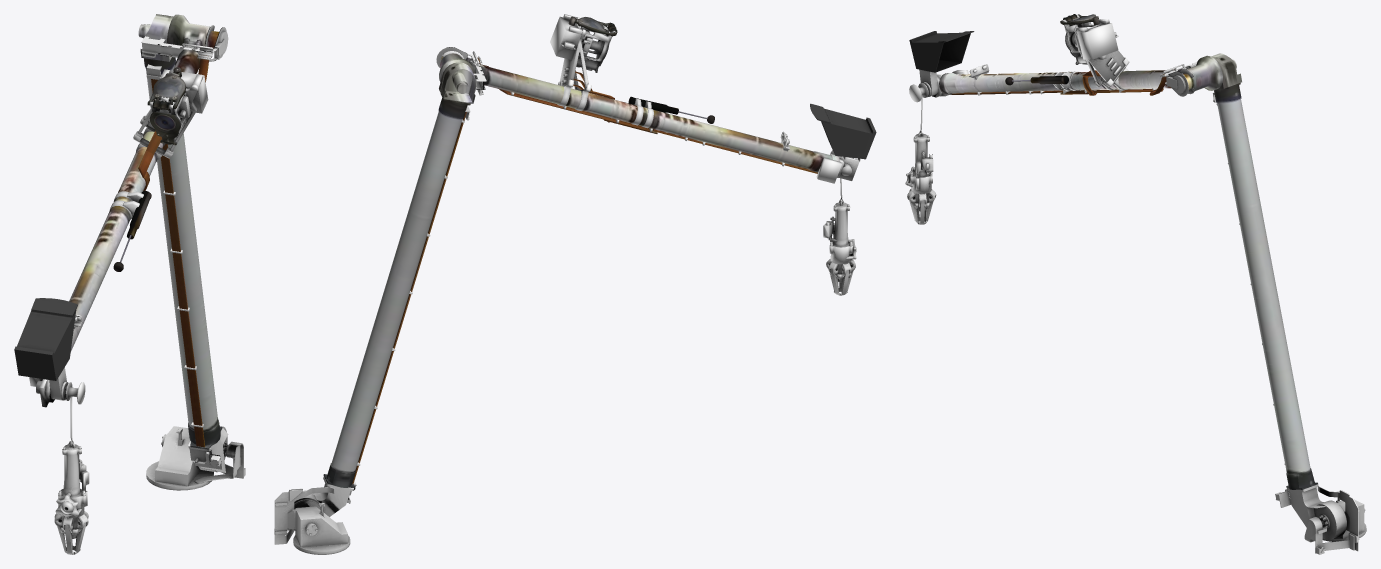
The model's file is insight-arm.glb.
3 views of the same model, side by side, from view 1: azimuth 30°, elevation 25°; view 2: azimuth 150°, elevation 25°; view 3: azimuth 270°, elevation 25° (orthographic). The views are drawn at different scales.
Parts seen in each view (by area): view 1: Cube287, Cube286, shovel, Cube288, Cube280, IDC, lens_cap_IDC; view 2: Cube287, Cube286, Cube288, shovel, IDC, Cube280; view 3: Cube287, Cube286, shovel, Cube288, IDC, Cube280.
Boxes of the visible parts, <box> form: Cube287: <box>138,14,236,472</box>; Cube286: <box>29,14,218,407</box>; shovel: <box>14,298,77,400</box>; Cube288: <box>146,426,245,490</box>; Cube280: <box>54,396,89,538</box>; IDC: <box>149,69,208,145</box>; lens_cap_IDC: <box>147,67,186,109</box>; Cube287: <box>294,47,486,530</box>; Cube286: <box>439,17,859,183</box>; Cube288: <box>274,487,350,554</box>; shovel: <box>810,103,876,161</box>; IDC: <box>550,14,617,72</box>; Cube280: <box>823,178,856,282</box>; Cube287: <box>1164,53,1346,539</box>; Cube286: <box>909,19,1222,102</box>; shovel: <box>909,31,974,96</box>; Cube288: <box>1304,483,1366,554</box>; IDC: <box>1063,14,1118,64</box>; Cube280: <box>905,94,936,211</box>.
Bounding box in the file's own units: 0.9153 × 1.04 × 0.9561.
Materials: 3 (3 with a texture image).
